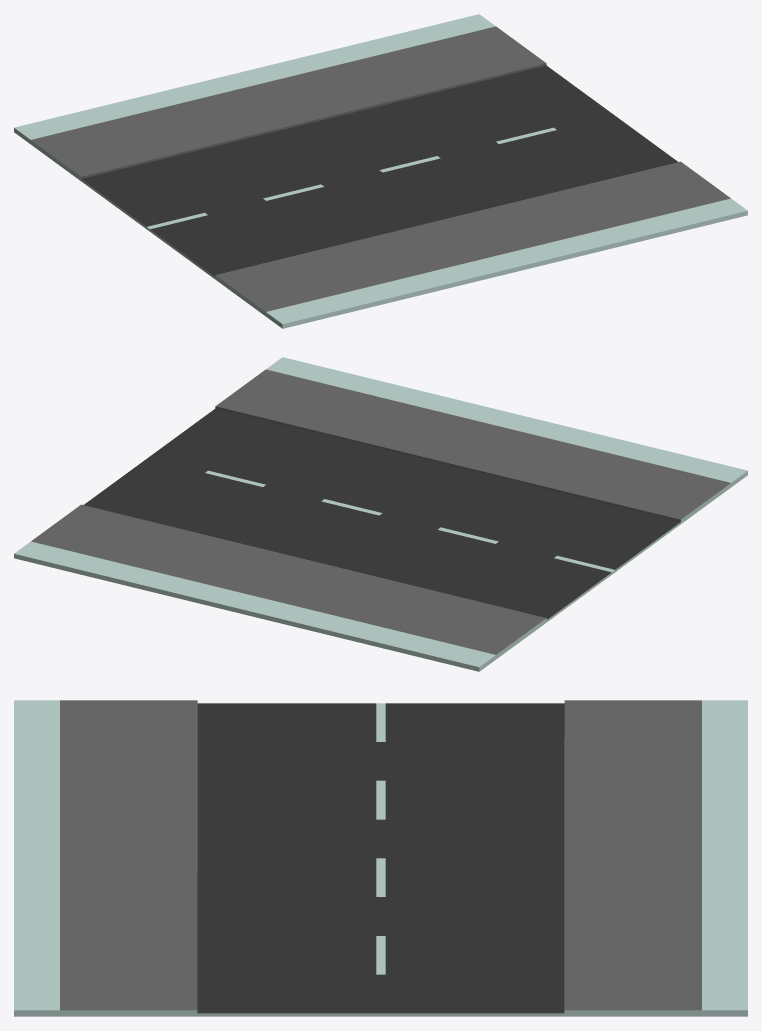
The model's file is road.fbx.
3 views of the same model, one above another, from view 1: azimuth 30°, elevation 25°; view 2: azimuth 150°, elevation 25°; view 3: azimuth 270°, elevation 25° (orthographic). The views are drawn at different scales.
Visible parts, largest first — view 1: Cube; view 2: Cube; view 3: Cube.
Boxes of the visible parts, box(x1,y1,x2,y2) form: Cube: box(14, 14, 747, 328); Cube: box(14, 357, 747, 671); Cube: box(14, 700, 747, 1016).
Bounding box in the file's own units: 8 × 0.0757 × 8.
